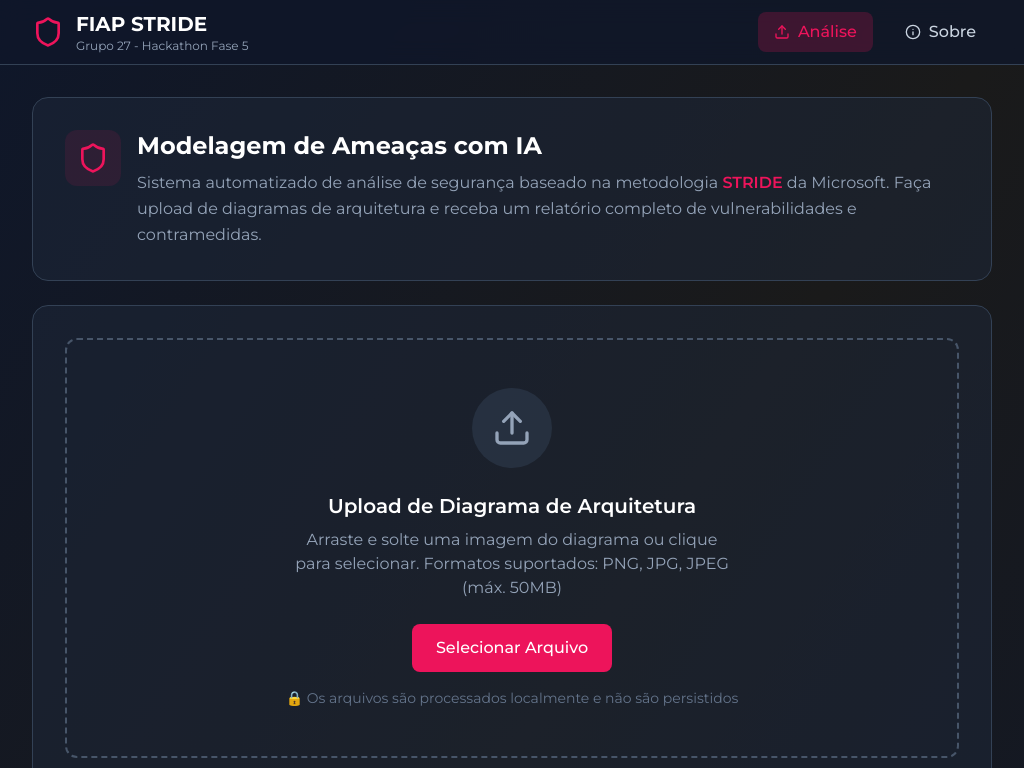
Test: App Integration › Sobre o Projeto › deve exibir tecnologias utilizadas
The image size is (1024, 768).
Click the tab "Sobre". click: [940, 32]
box: [889,12,992,52]
(page scrolled)
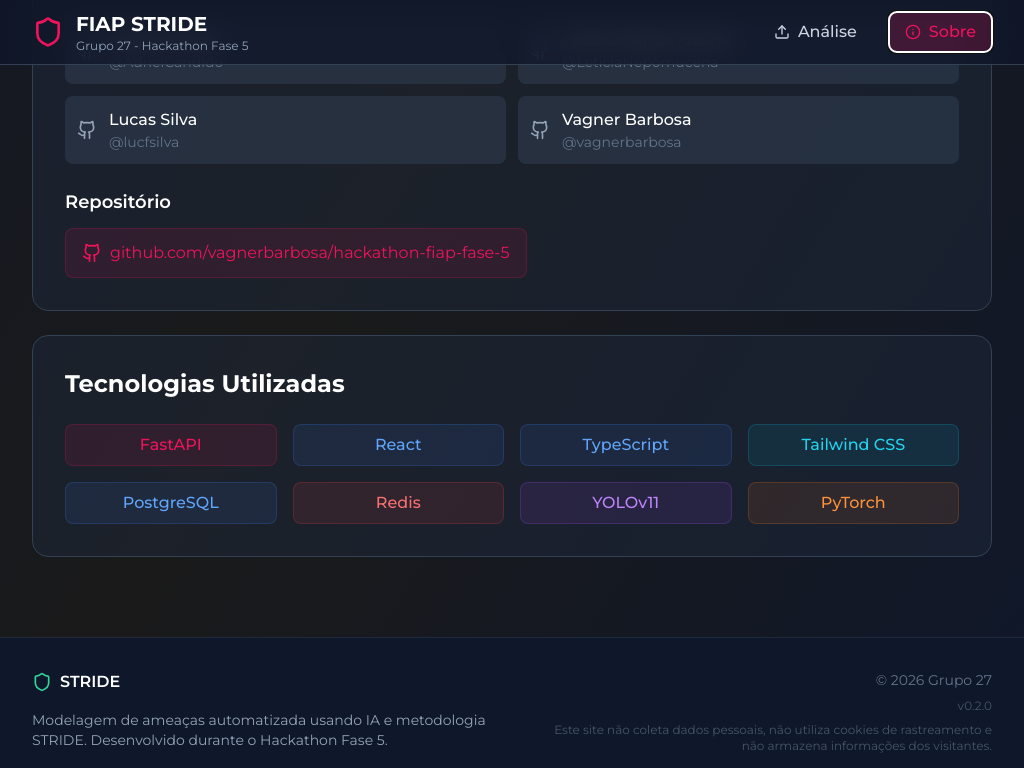
Now the heading "Tecnologias Utilizadas" is shown, box [65,369,345,398]
